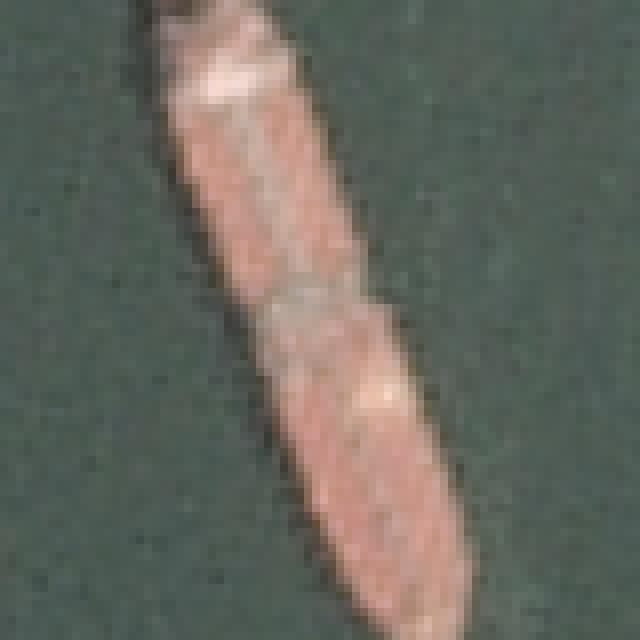ship: (102, 0, 508, 640)
